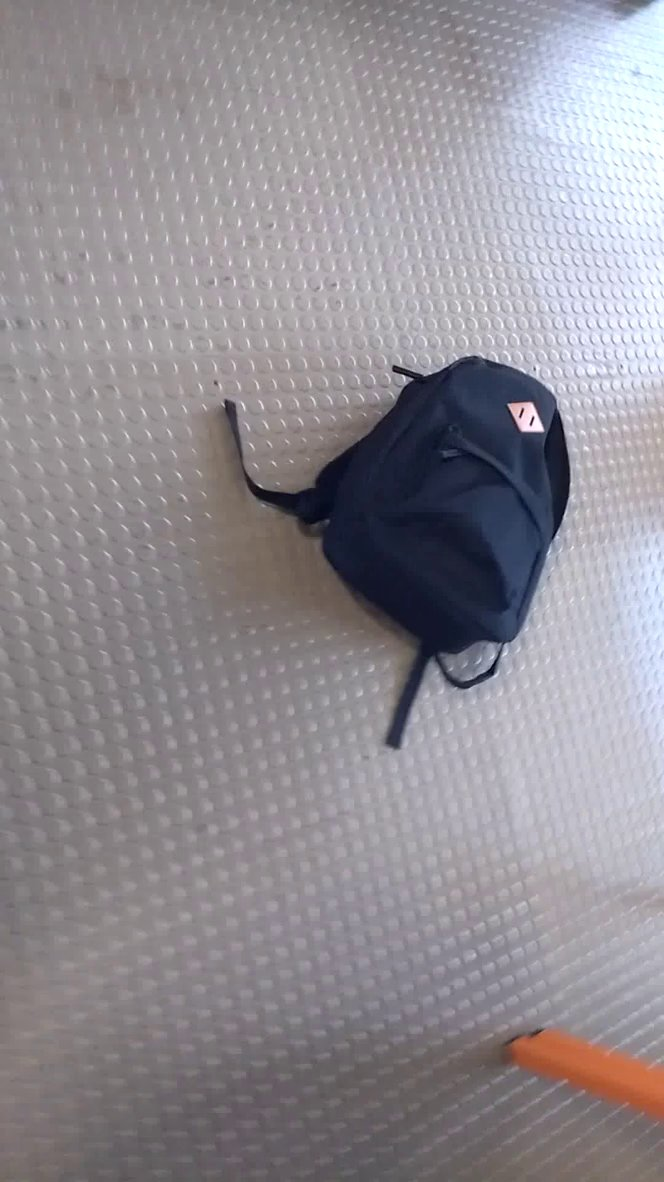bag: (218, 353, 575, 755)
